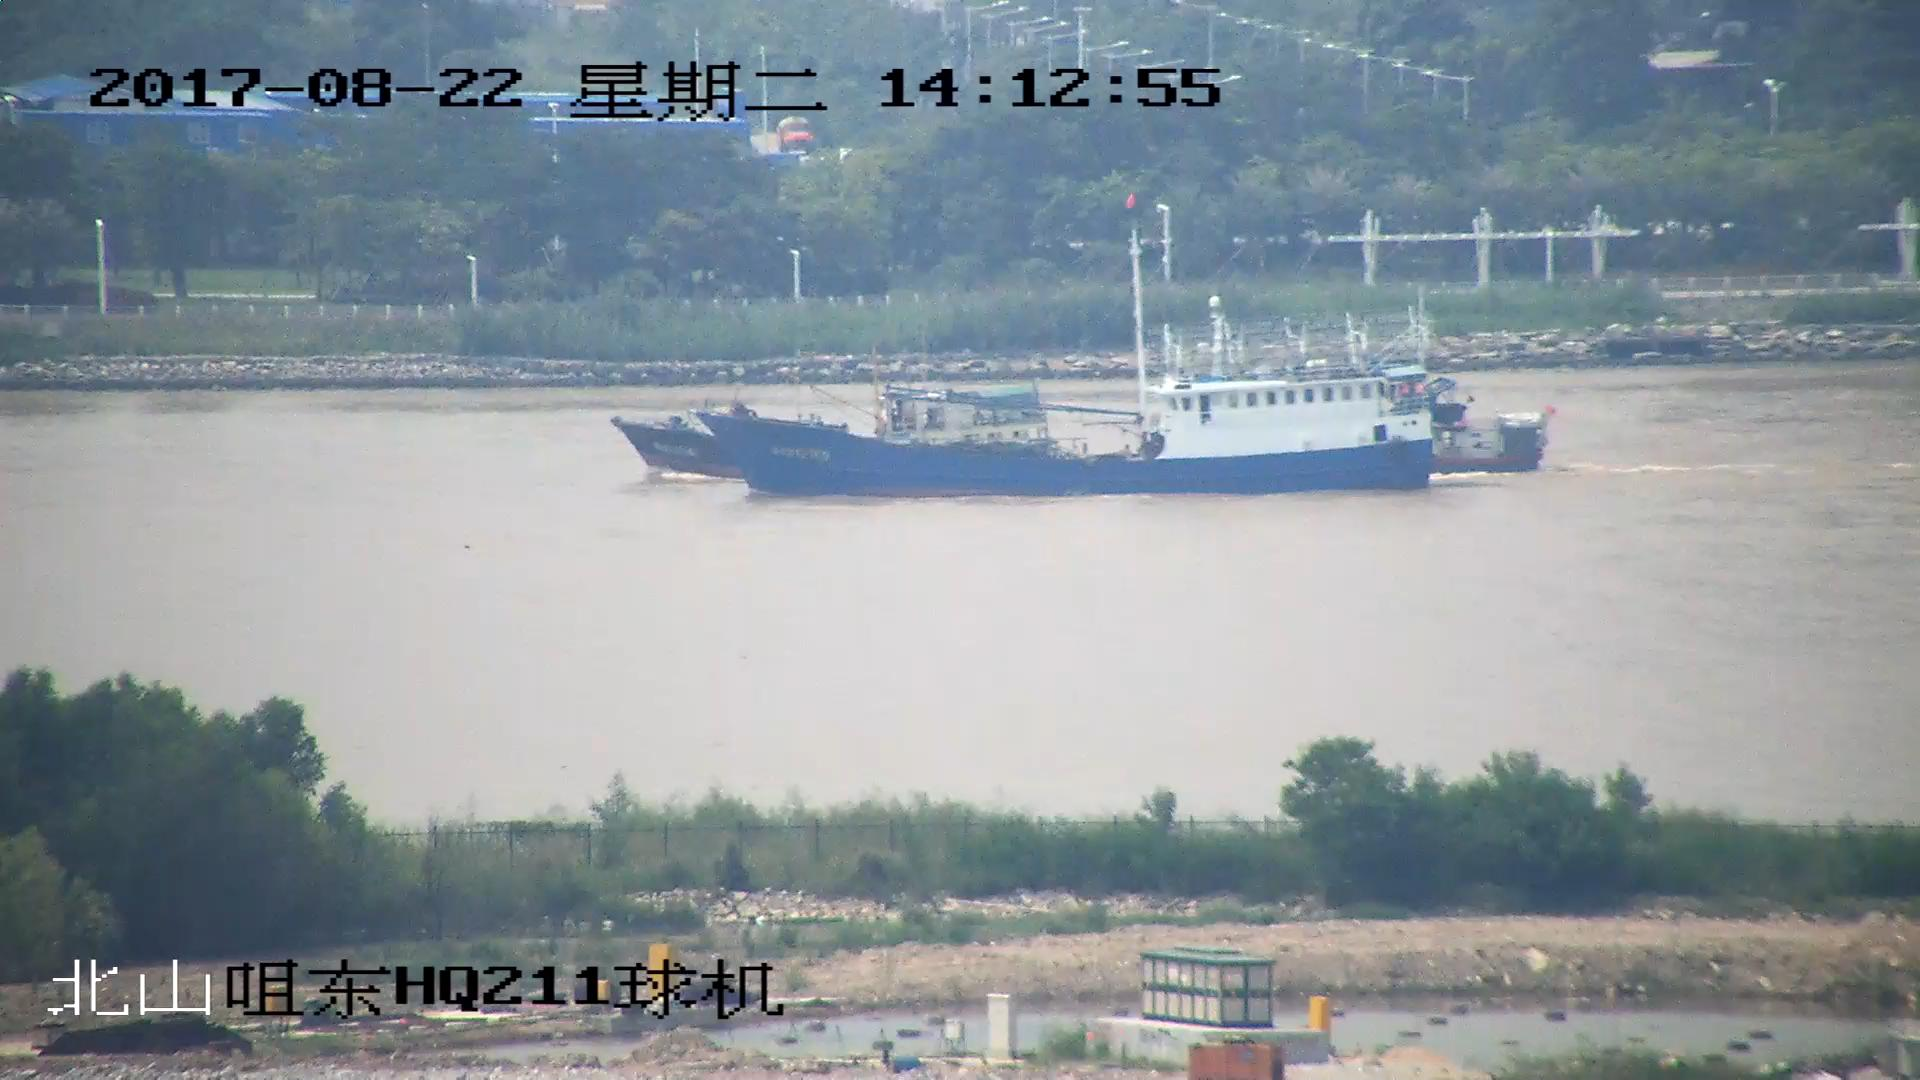fishing boat: (701, 190, 1468, 497), (616, 388, 1061, 480), (1374, 407, 1555, 476)
